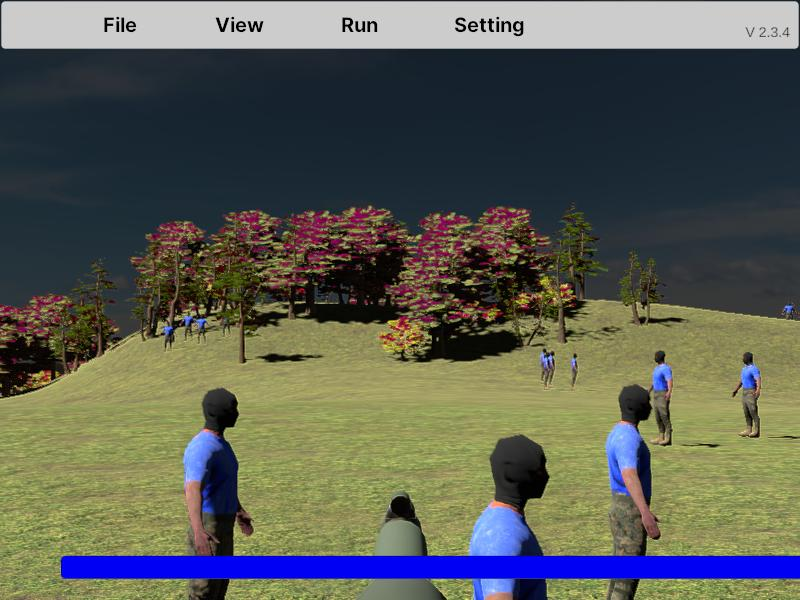Human: (183, 385, 254, 598), (467, 430, 553, 600), (606, 380, 661, 599), (732, 352, 761, 438), (648, 350, 673, 447)
